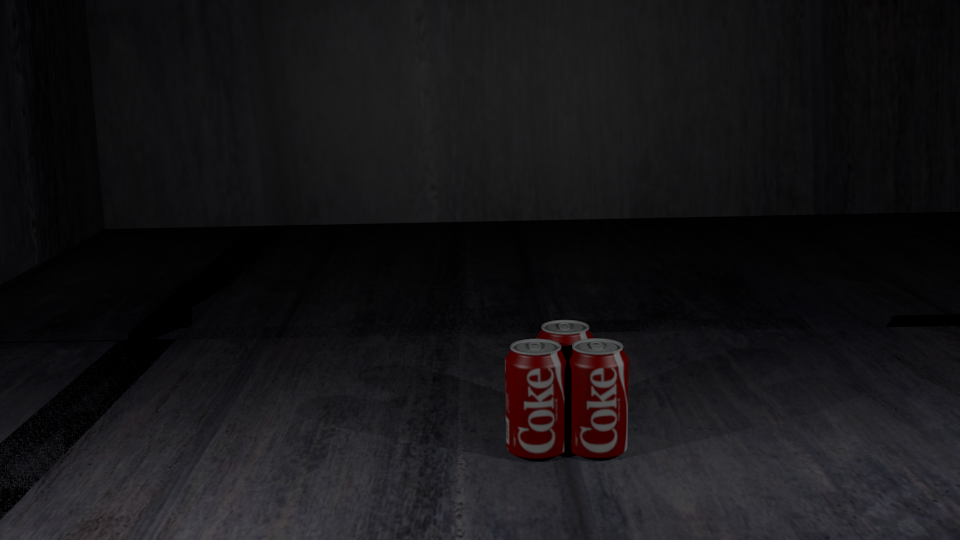cola_can: (505, 339, 566, 455), (567, 339, 628, 454), (537, 320, 593, 430)
